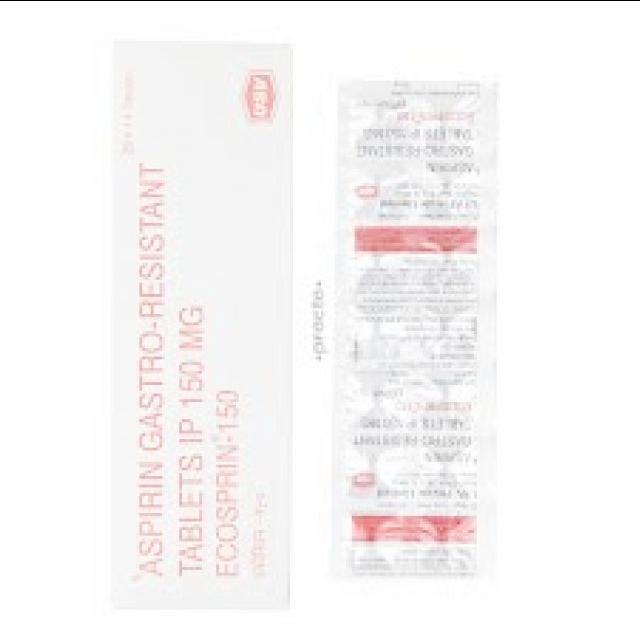authentic: (106, 26, 301, 626), (322, 63, 509, 590)
